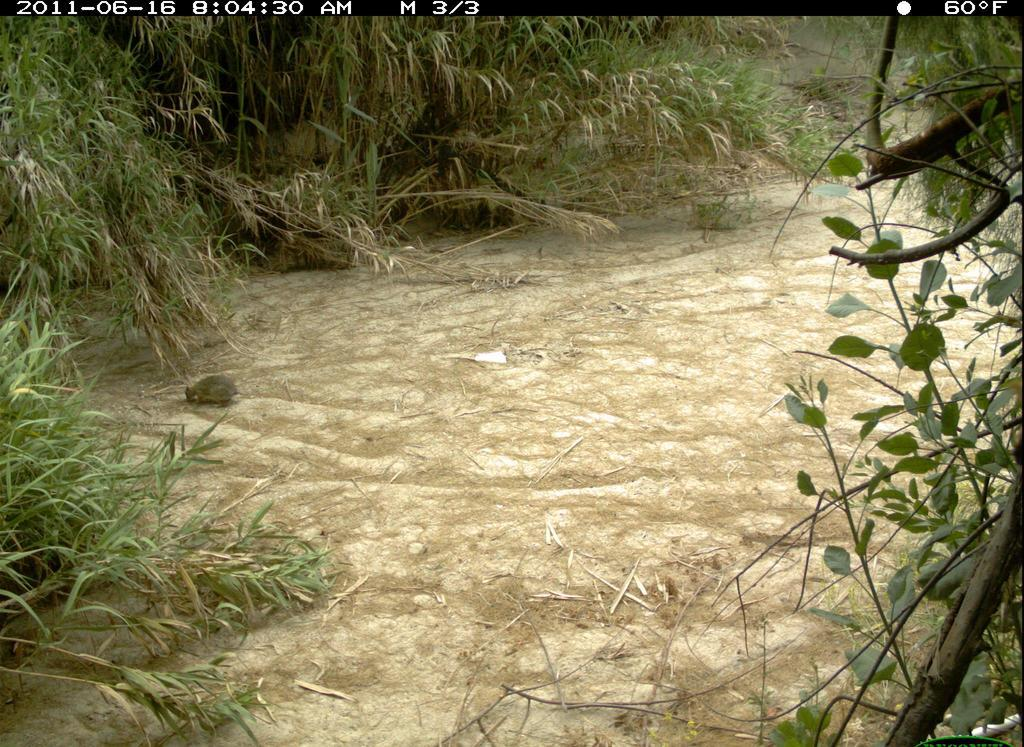rabbit: (177, 366, 243, 410)
